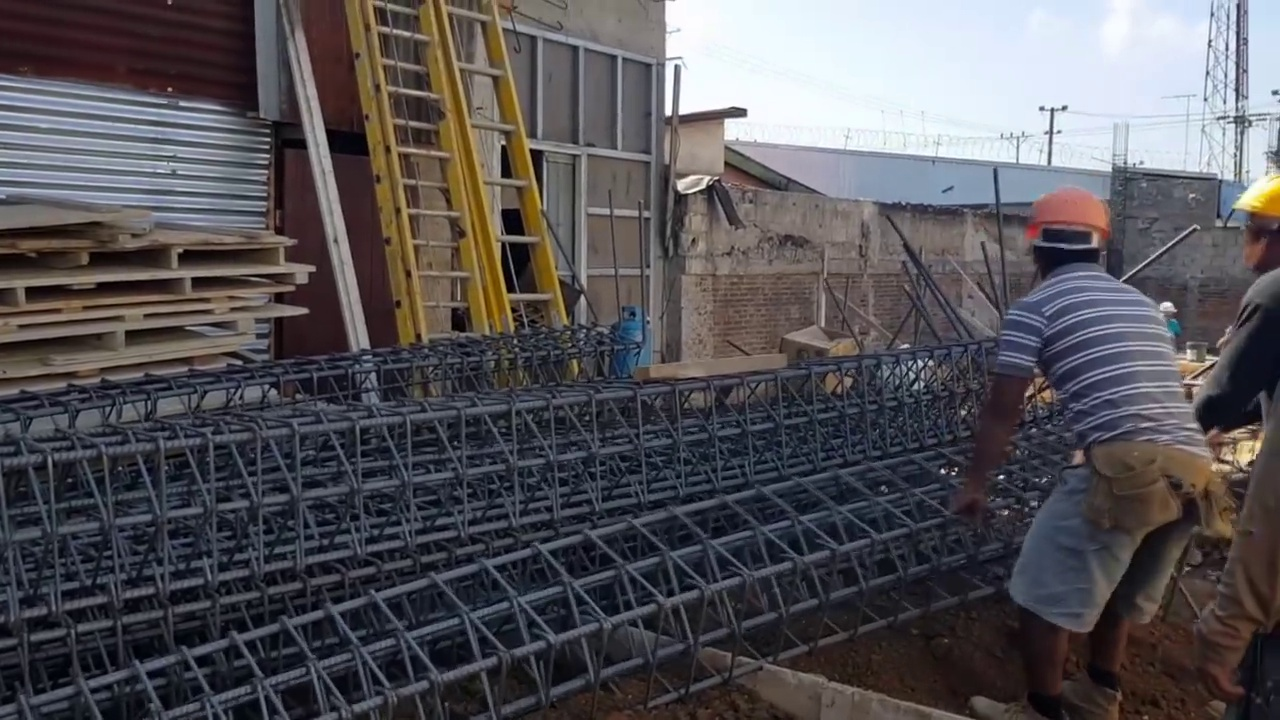helmet: (1026, 188, 1119, 245), (1232, 174, 1279, 220), (1159, 300, 1177, 313)
helmet-on: (1020, 186, 1123, 287), (1232, 177, 1280, 271), (1159, 300, 1178, 321)
person: (950, 187, 1208, 717), (1195, 172, 1280, 720), (1159, 302, 1182, 353)
